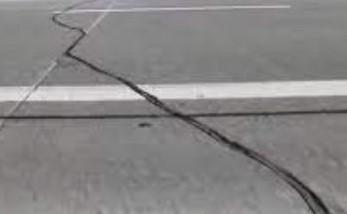crack: (51, 2, 334, 212), (0, 110, 347, 122)
